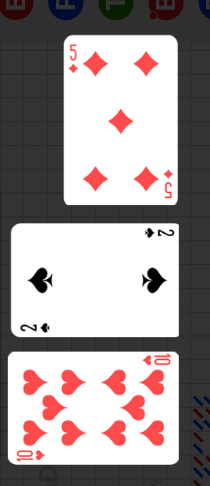10H: (15, 448, 48, 462)
2S: (143, 226, 176, 240)
9D: (67, 43, 79, 75)
